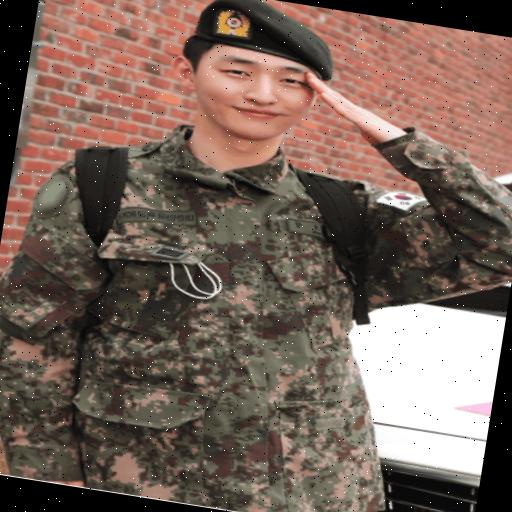korea army: (0, 107, 432, 512)
